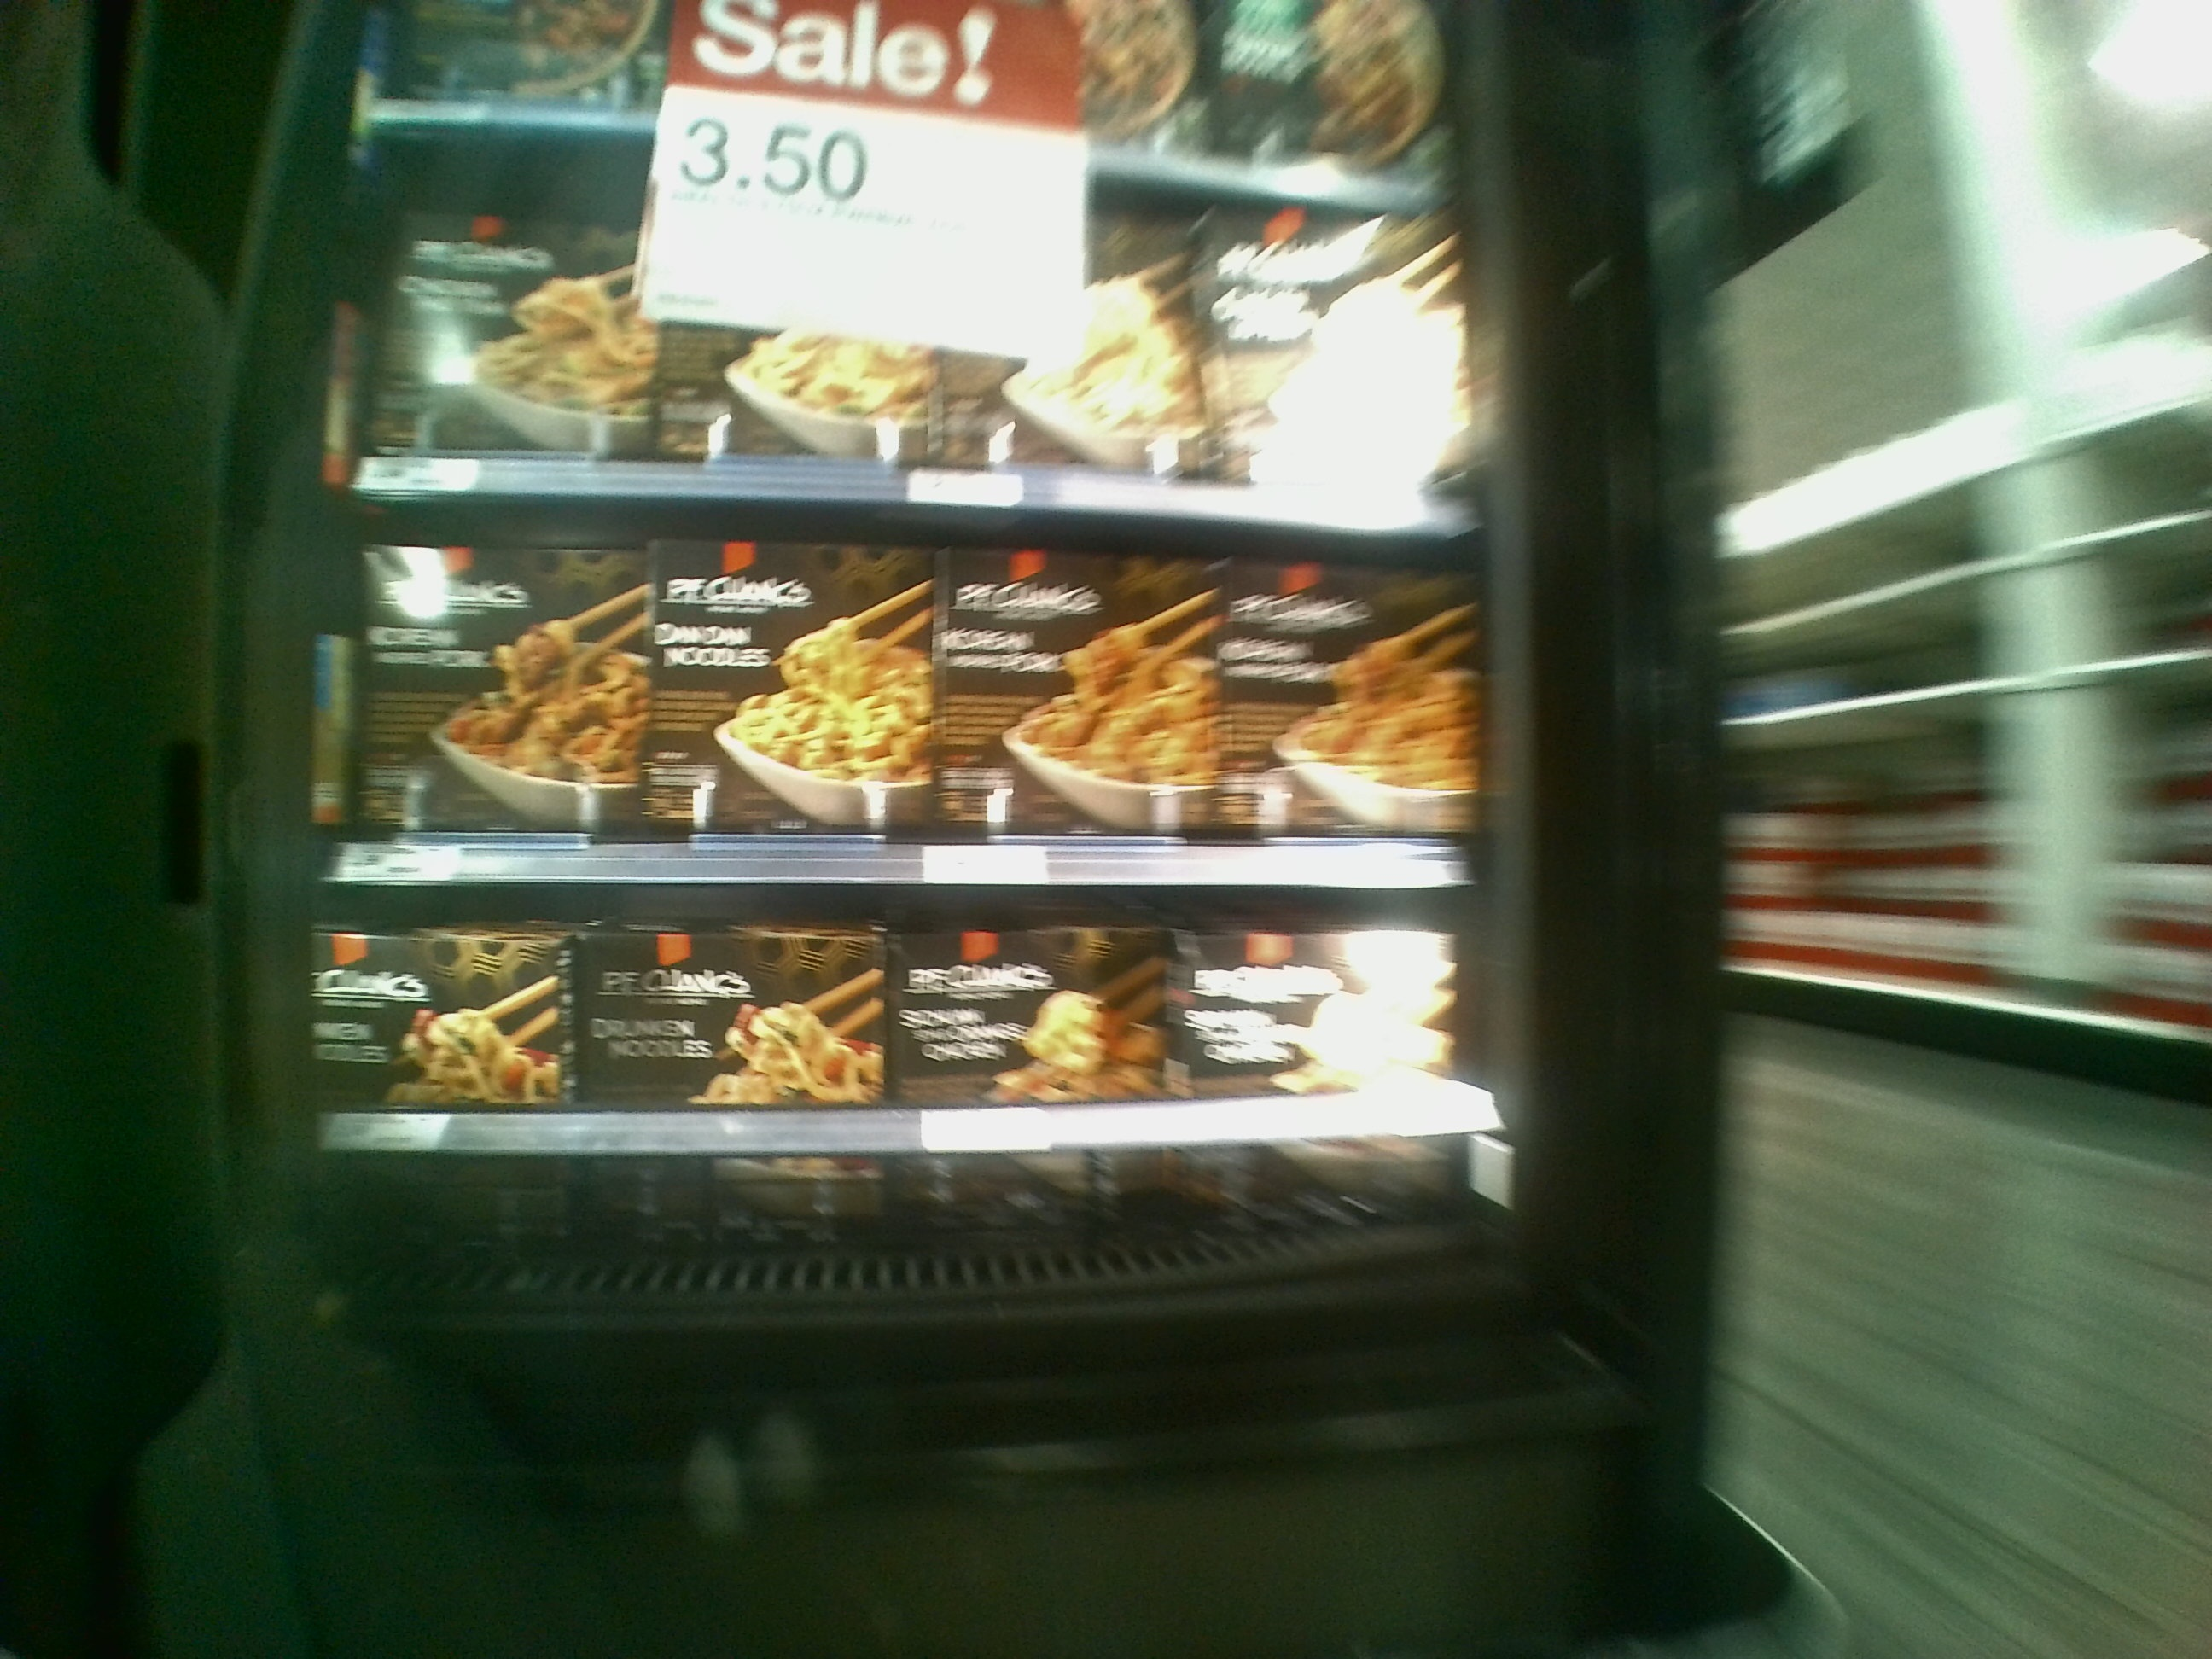shelf: (308, 863, 1503, 1281), (314, 481, 1508, 884)
